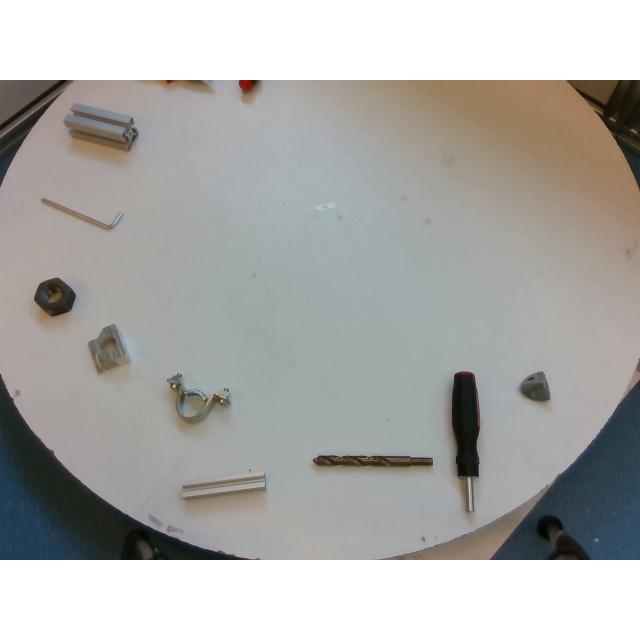Drill: (313, 454, 432, 466)
F20_20_G: (181, 470, 265, 498)
Housing: (167, 373, 229, 422)
M30: (34, 278, 74, 314)
S40_40_G: (64, 102, 136, 150)
